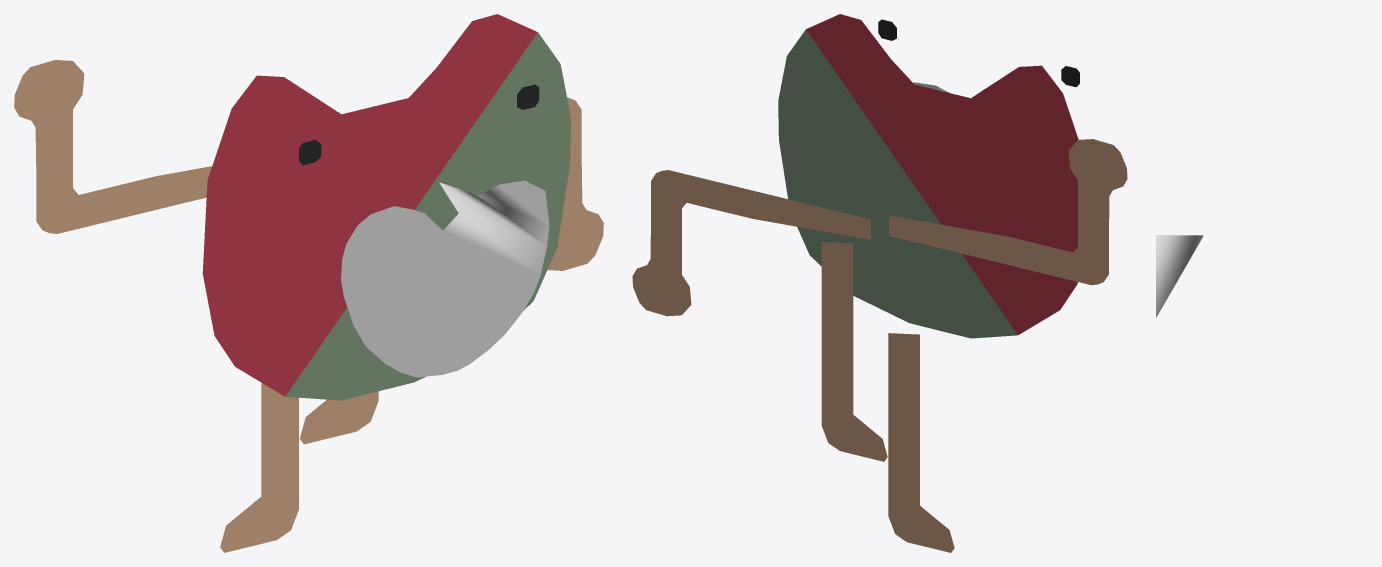
Rendered from file_haha_right_c.fbx.
3 views of the same model, side by side, from view 1: azimuth 30°, elevation 25°; view 2: azimuth 150°, elevation 25°; view 3: azimuth 270°, elevation 25° (orthographic). The views are drawn at different scales.
Parts seen in each view (by area): view 1: polySurface21; view 2: polySurface21; view 3: polySurface21.
Boxes of the visible parts, <box> form: polySurface21: <box>14,14,603,552</box>; polySurface21: <box>632,14,1127,552</box>; polySurface21: <box>1156,235,1203,317</box>.
Size of the model in its own units: 2.01 by 1.76 by 0.7588.
